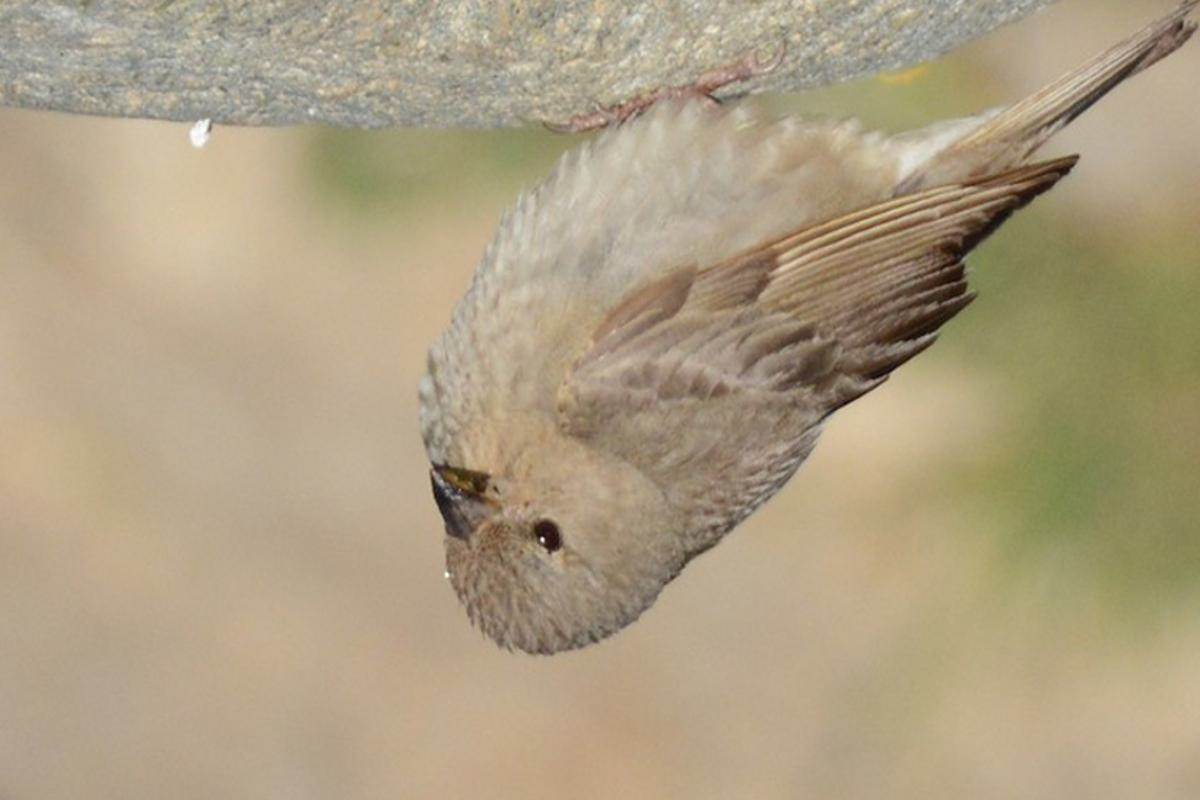rosefinch: (393, 41, 1017, 670)
